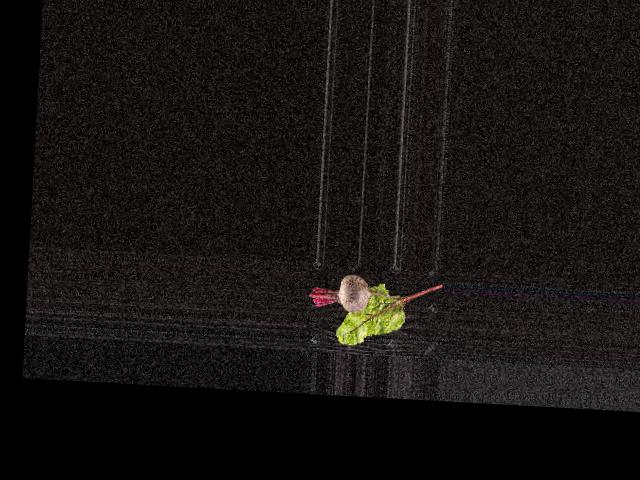beet: (307, 272, 405, 315)
